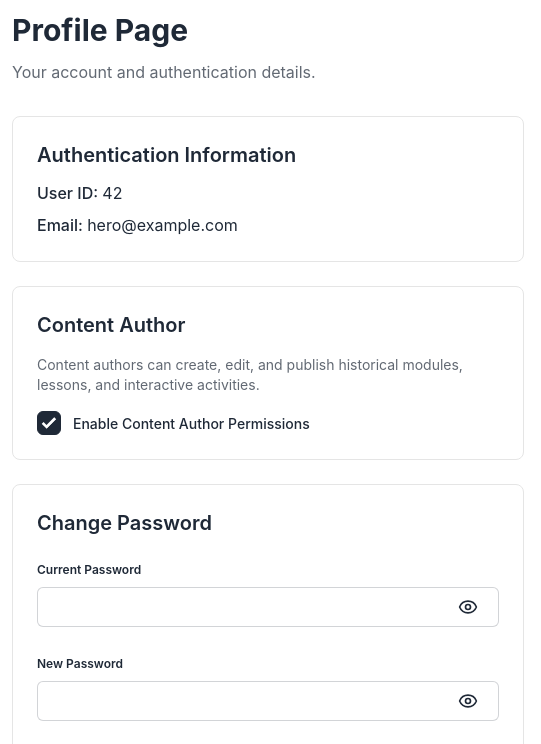
it: ProfilePage › Content Author toggle › shows error message when updateContentAuthor fails
The width and height of the screenshot is (541, 744).
Click the checkbox labelled "Enable Content Author Permissions": point(49, 423) [37,411,61,435]
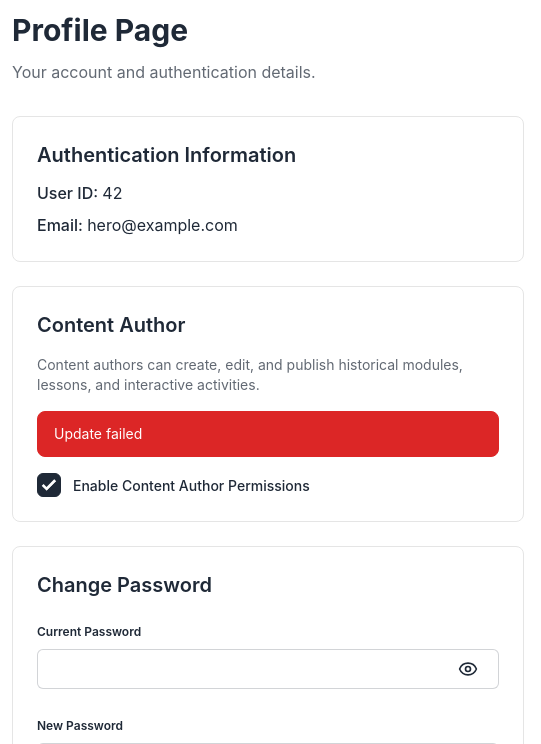
Expected: the message reads "Update failed", [54,425,142,442]
